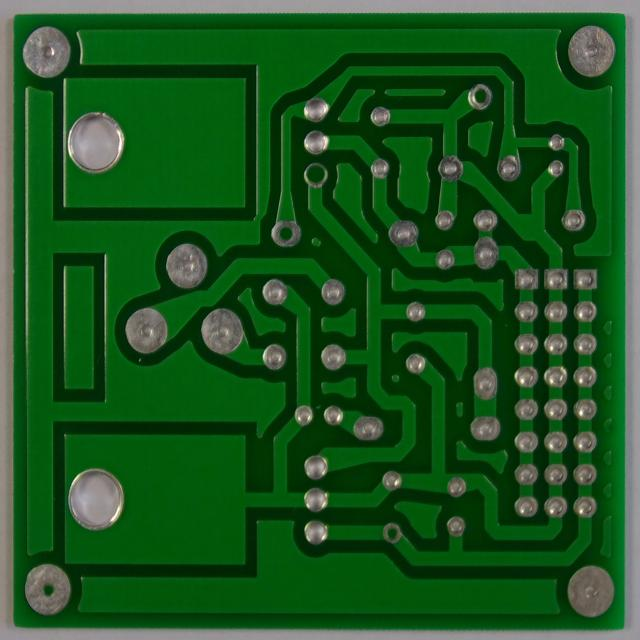missing_hole: (31, 570, 63, 607), (268, 219, 303, 248), (466, 81, 493, 110), (303, 161, 329, 187), (380, 519, 404, 544)
